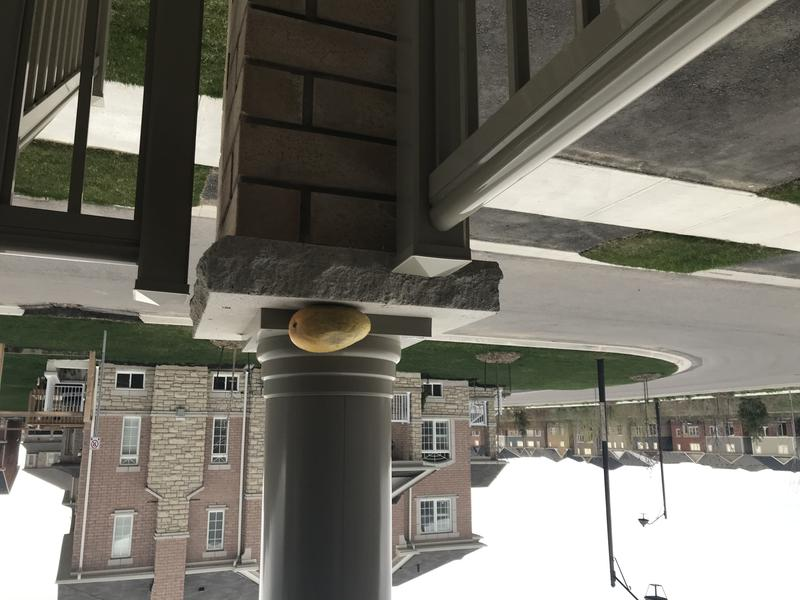w: (282, 298, 376, 359)
